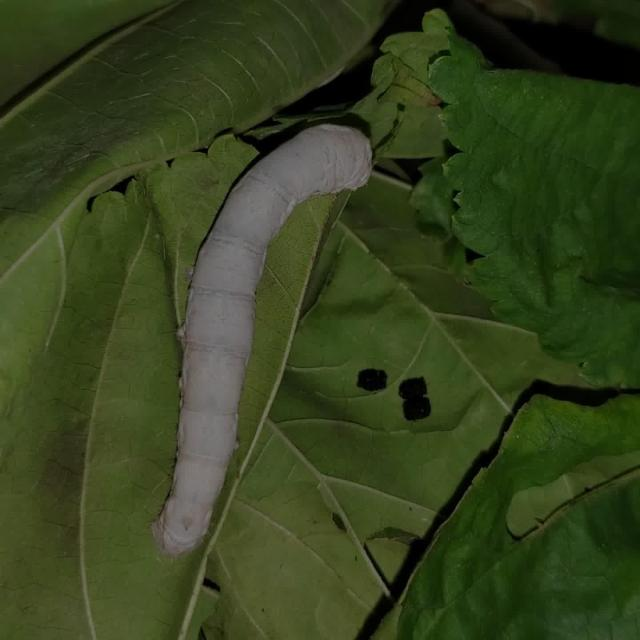Healthy: (141, 88, 401, 580)
